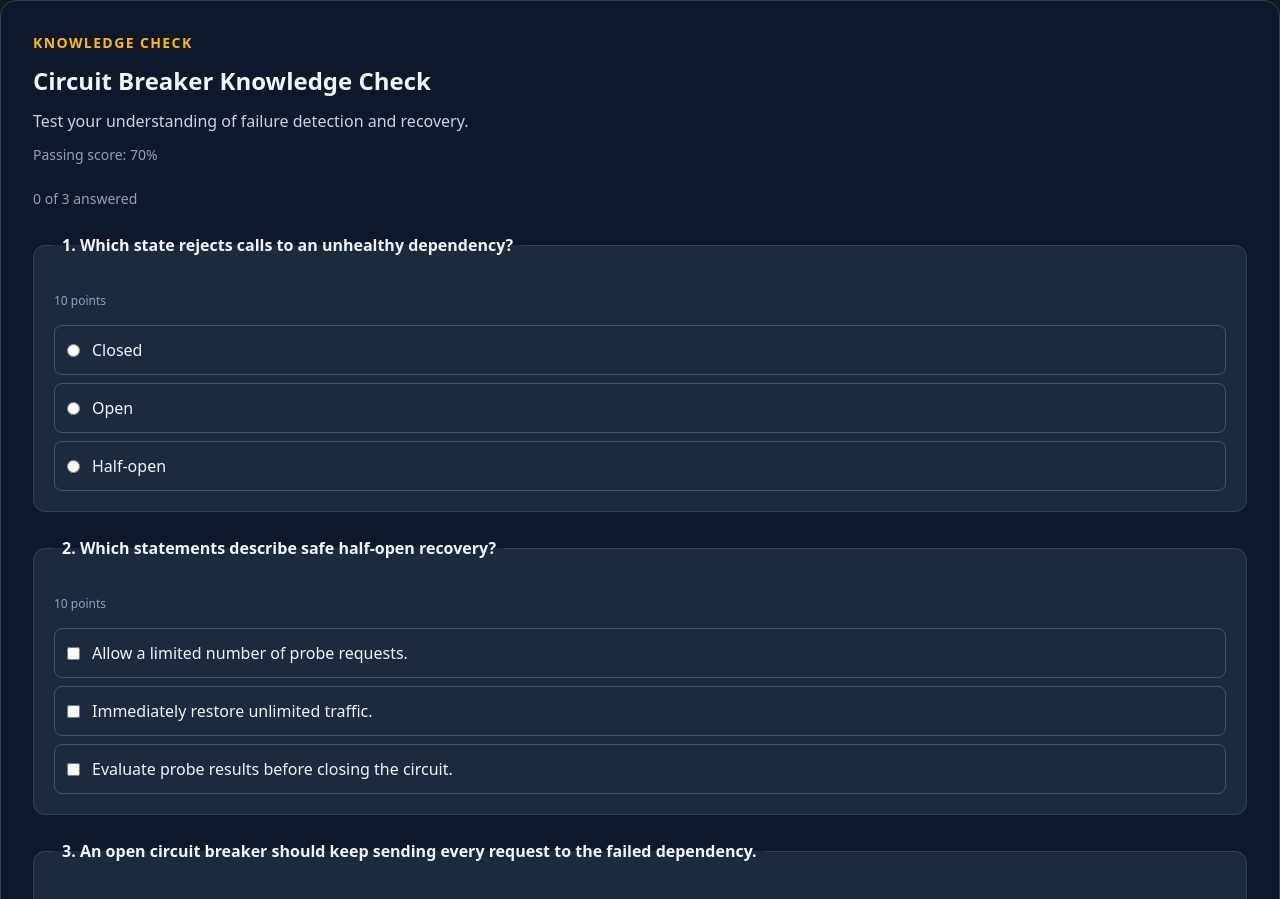
Test: QuizPlayer › clears answers when retrying
Click the radio button labelled "Open": (74, 408) 67,402 -> 80,414
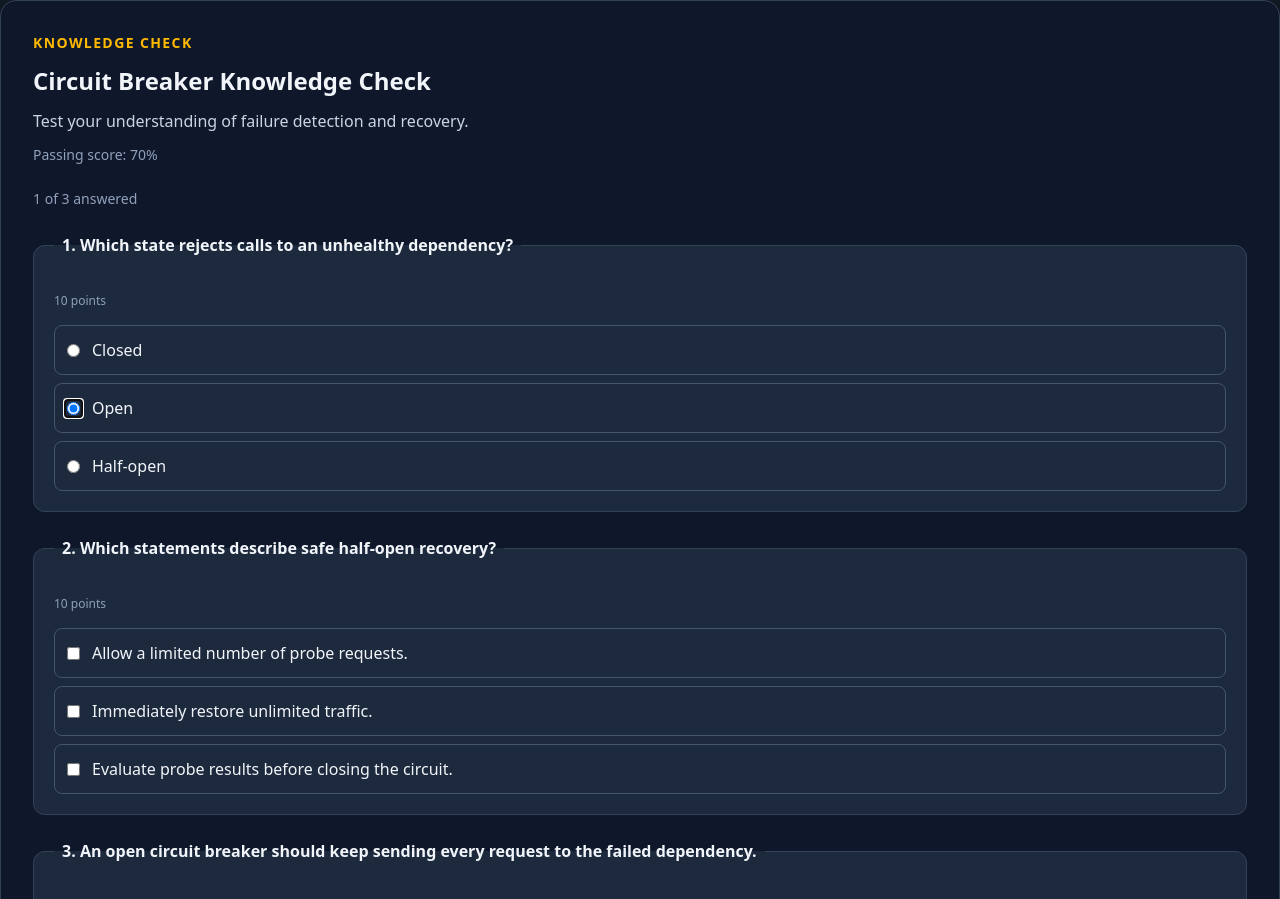
Click the checkbox labelled "Allow a limited number of probe requests.": (74, 653) 67,646 -> 80,660
(page scrolled)
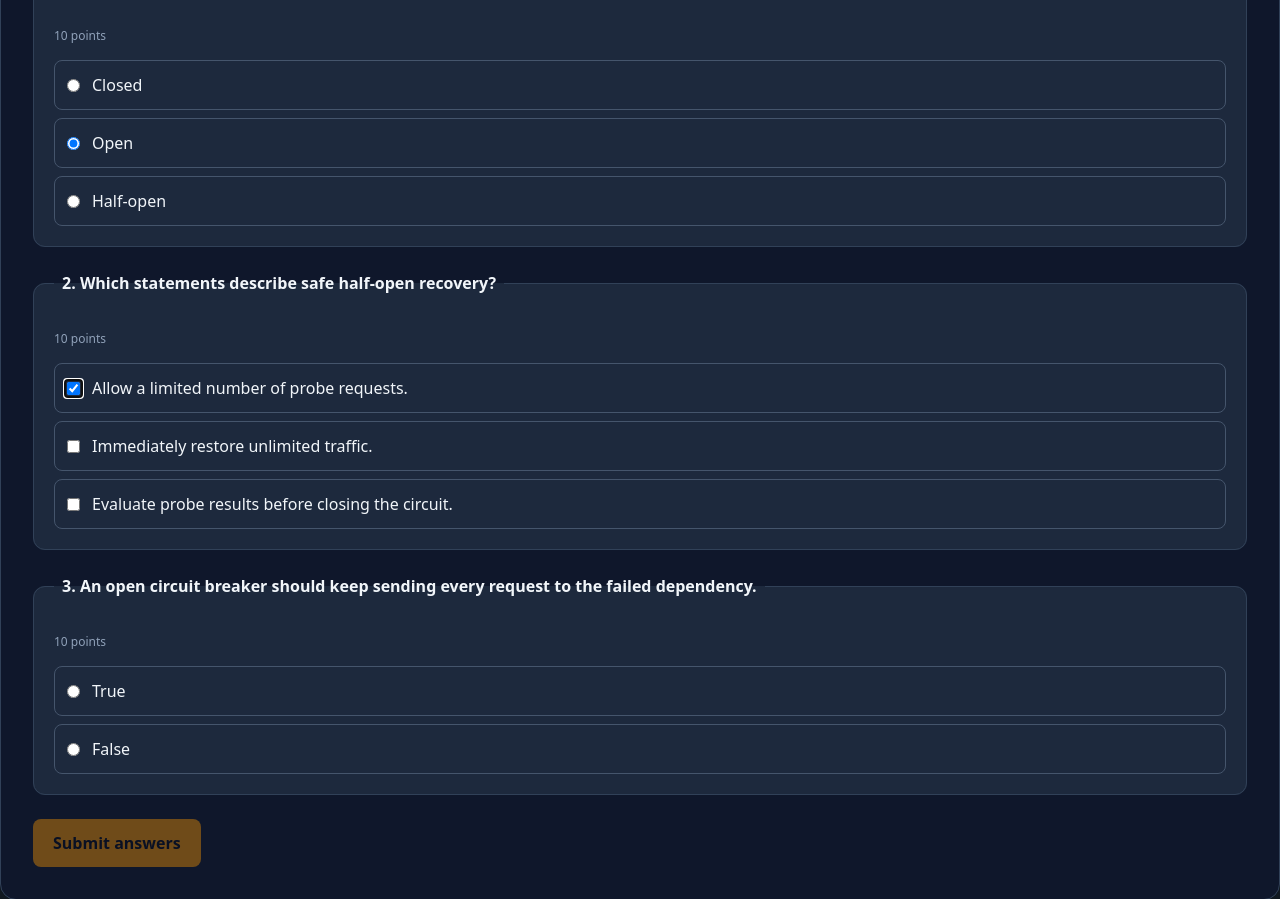
Click the radio button labelled "False": (74, 749) 67,742 -> 80,756
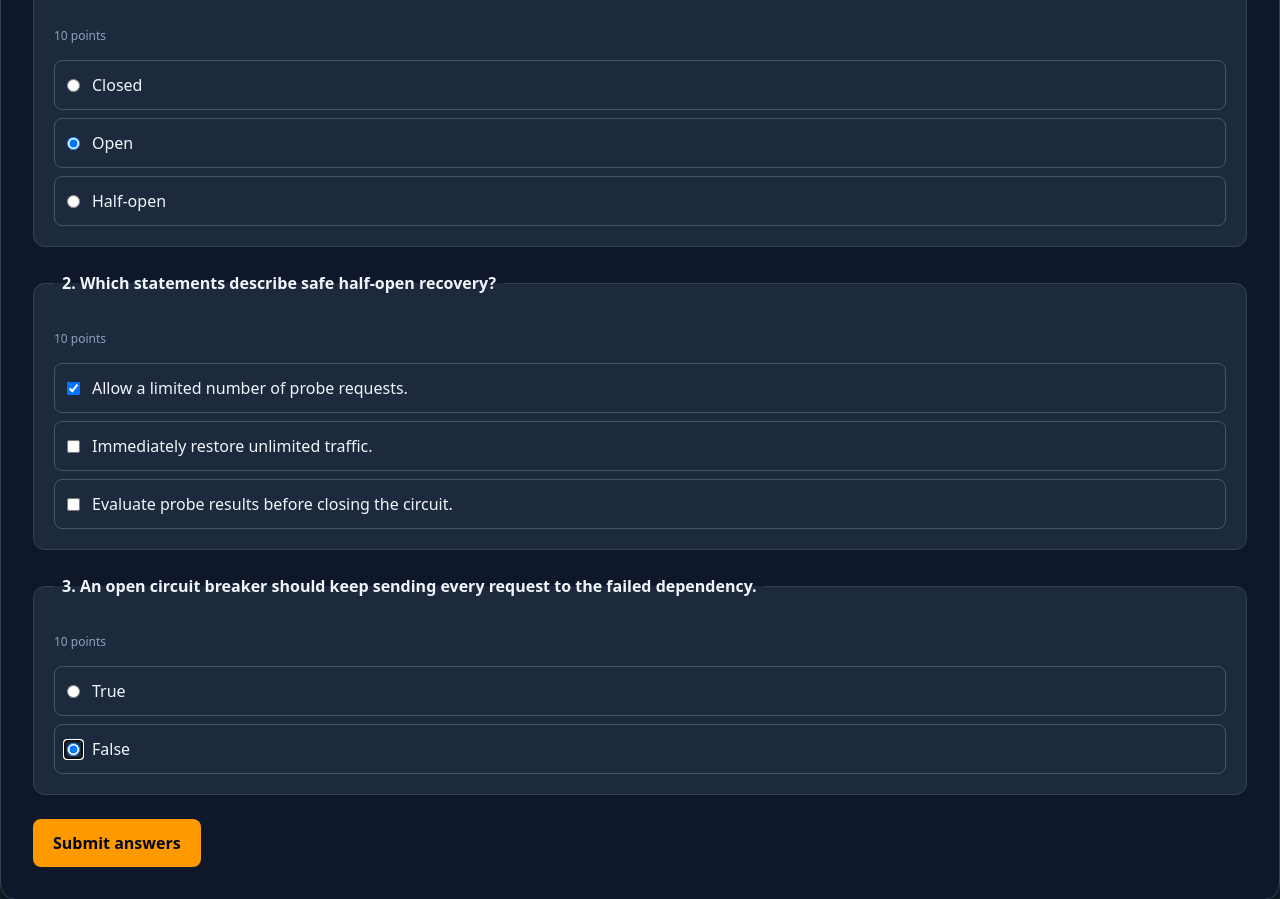
Click the button "Submit answers": (117, 843) 33,819 -> 201,867
(page scrolled)
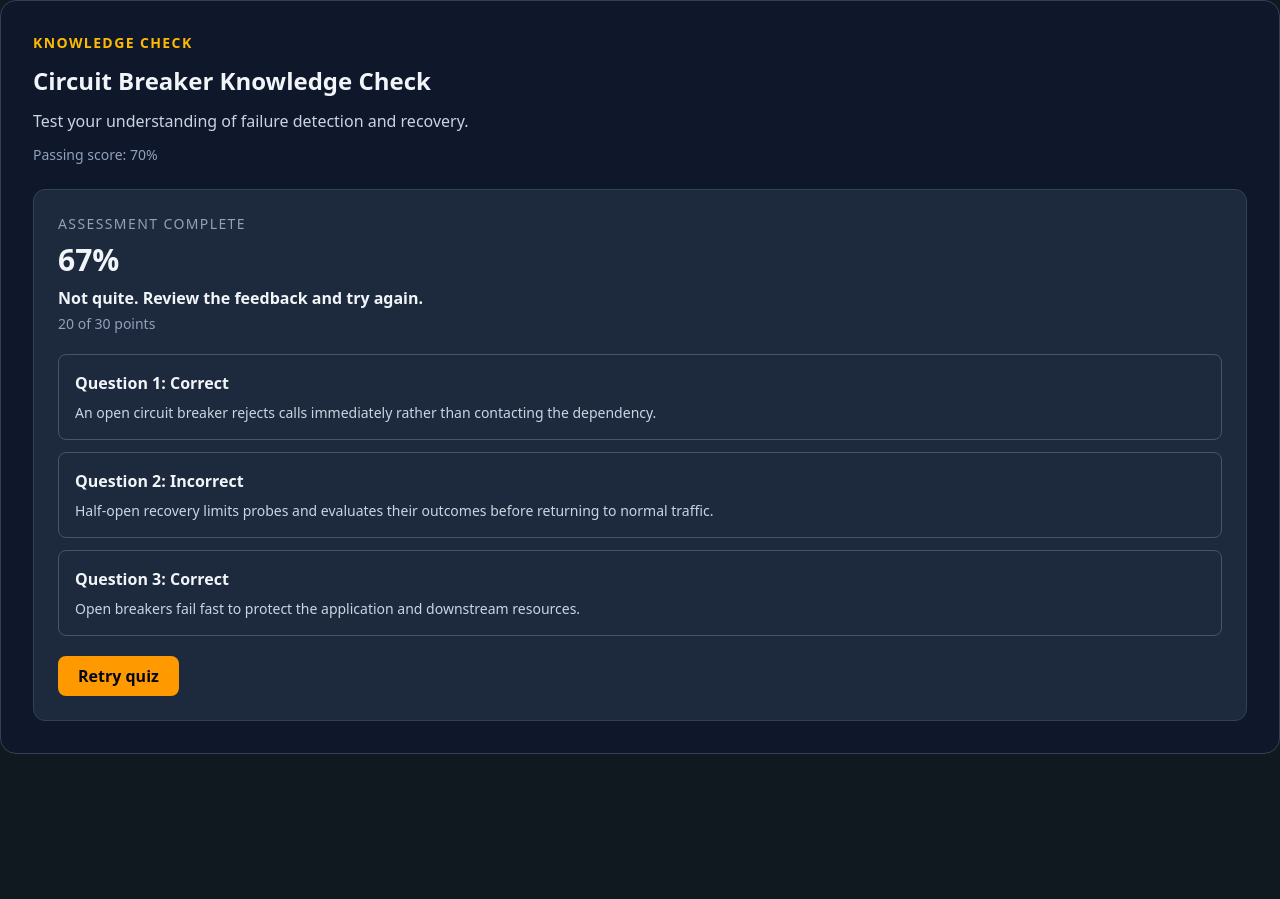
Click the button "Retry quiz": (118, 676) 58,656 -> 179,696
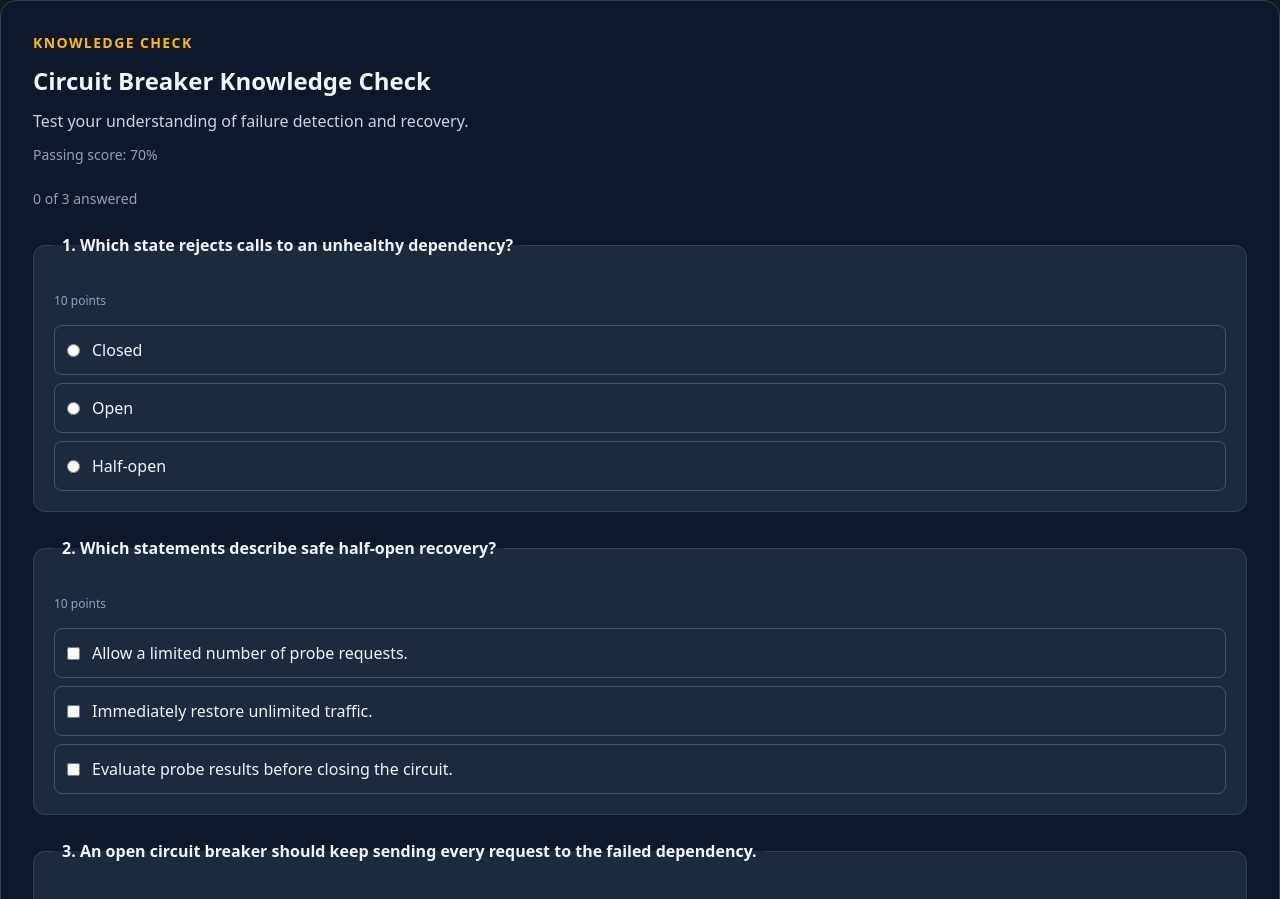
Result: the text "0 of 3 answered" is shown at 33,189 -> 137,208
